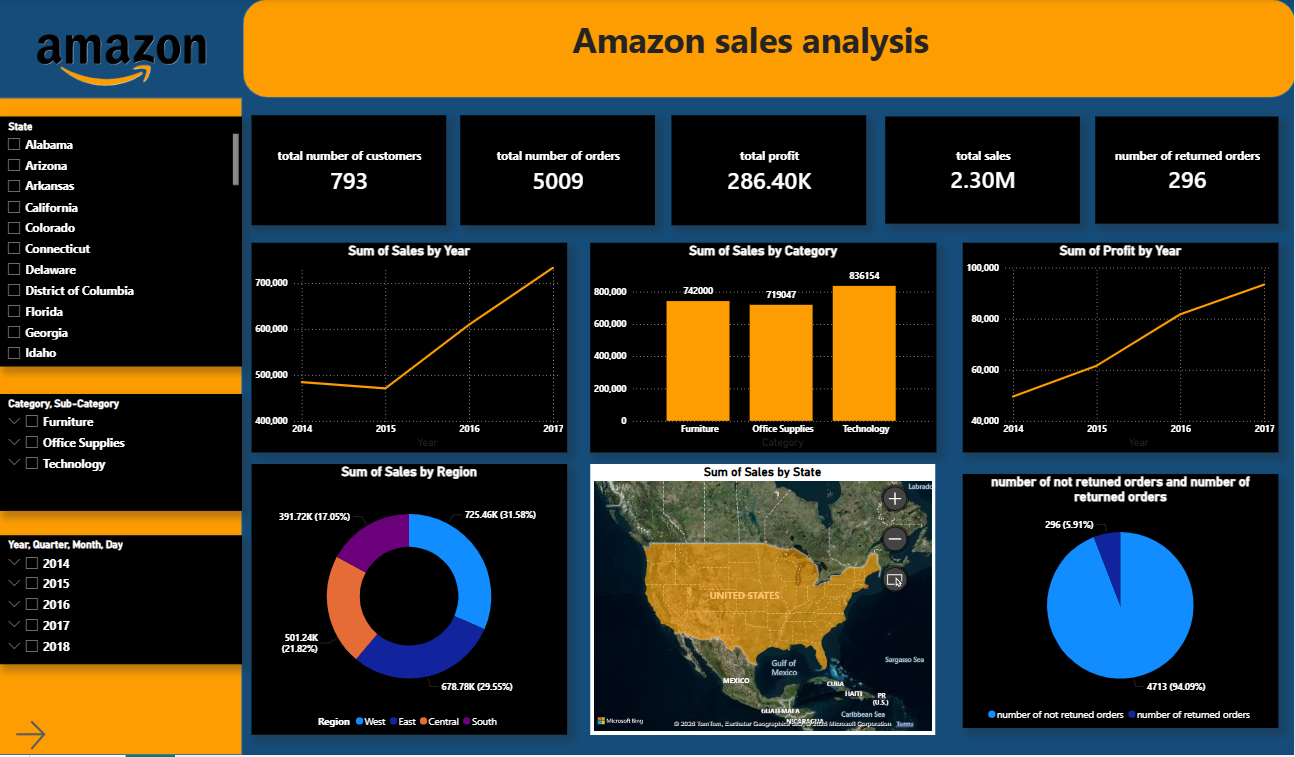

This screenshot's page, from the dashboard's own definition file:
{"tool":"powerbi","page":{"name":"Page 1","canvas":[1800,1050],"ordinal":0},"visuals":[{"type":"image","box":[17.4,15.4,304.9,146.7],"z":0},{"type":"shape","box":[0,137,337.7,912.7],"z":1000},{"type":"shape","box":[337.7,0,1462.7,137],"z":2000},{"type":"textbox","box":[640.7,0,806.6,119.6],"z":3000},{"type":"cardVisual","fields":{"Data":["Orders.total number of customers"]},"box":[351.2,162.1,270.2,152.4],"z":4000},{"type":"cardVisual","fields":{"Data":["Orders.total number of orders"]},"box":[640.7,162.1,270.2,152.4],"z":5000},{"type":"cardVisual","fields":{"Data":["Orders.total profit"]},"box":[934,162.1,270.2,152.4],"z":6000},{"type":"cardVisual","fields":{"Data":["Orders.total sales"]},"box":[1231.1,164,270.2,148.6],"z":7000},{"type":"cardVisual","fields":{"Data":["Orders.number of returned orders"]},"box":[1522.5,164,254.7,148.6],"z":8000},{"type":"lineChart","fields":{"Category":["Orders.Order Date.Variation.Date Hierarchy.Year","Orders.Order Date.Variation.Date Hierarchy.Quarter","Orders.Order Date.Variation.Date Hierarchy.Month","Orders.Order Date.Variation.Date Hierarchy.Day"],"Y":["Sum(Orders.Sales)"]},"box":[351.2,337.7,438,291.4],"z":9000},{"type":"lineChart","fields":{"Category":["Orders.Order Date.Variation.Date Hierarchy.Year","Orders.Order Date.Variation.Date Hierarchy.Quarter","Orders.Order Date.Variation.Date Hierarchy.Month","Orders.Order Date.Variation.Date Hierarchy.Day"],"Y":["Sum(Orders.Profit)"]},"box":[1339.2,337.7,438,291.4],"z":10000},{"type":"clusteredColumnChart","fields":{"Category":["Orders.Category Hierarchy.Category","Orders.Category Hierarchy.Sub-Category"],"Y":["Sum(Orders.Sales)"]},"box":[822,337.7,480.5,291.4],"z":11000},{"type":"donutChart","fields":{"Category":["Orders.Region"],"Y":["Sum(Orders.Sales)"]},"box":[351.2,646.4,438,376.3],"z":12000},{"type":"filledMap","fields":{"Category":["Orders.State"]},"box":[822,646.4,478.6,376.3],"z":13000},{"type":"actionButton","box":[17.4,995.7,77.2,52.1],"z":13002},{"type":"pieChart","fields":{"Y":["Orders.number of not retuned orders","Orders.number of returned orders"]},"box":[1339.2,660,438,353.1],"z":13005},{"type":"slicer","fields":{"Values":["Orders.State"]},"box":[0,164,337.7,347.3],"z":13006},{"type":"slicer","fields":{"Values":["Orders.Category Hierarchy.Category","Orders.Category Hierarchy.Sub-Category"]},"box":[0,548,337.7,162.1],"z":13007},{"type":"slicer","fields":{"Values":["Orders.Ship Date.Variation.Date Hierarchy.Year","Orders.Ship Date.Variation.Date Hierarchy.Quarter","Orders.Ship Date.Variation.Date Hierarchy.Month","Orders.Ship Date.Variation.Date Hierarchy.Day"]},"box":[0,744.9,337.7,179.5],"z":13008}]}

Visuals, with their boxes in screenshot pixels (x1, y1, x2, y2), scaled from the page's 1800x1050 canvas onto the 1295x757 screenshot:
image: left=13, top=11, right=232, bottom=117
shape: left=0, top=99, right=243, bottom=756
shape: left=243, top=0, right=1294, bottom=99
textbox: left=461, top=0, right=1041, bottom=86
cardVisual - Orders.total number of customers: left=253, top=117, right=447, bottom=227
cardVisual - Orders.total number of orders: left=461, top=117, right=655, bottom=227
cardVisual - Orders.total profit: left=672, top=117, right=866, bottom=227
cardVisual - Orders.total sales: left=886, top=118, right=1080, bottom=225
cardVisual - Orders.number of returned orders: left=1095, top=118, right=1279, bottom=225
lineChart - Orders.Order Date.Variation.Date Hierarchy.Year x Orders.Order Date.Variation.Date Hierarchy.Quarter: left=253, top=243, right=568, bottom=454
lineChart - Orders.Order Date.Variation.Date Hierarchy.Year x Orders.Order Date.Variation.Date Hierarchy.Quarter: left=963, top=243, right=1279, bottom=454
clusteredColumnChart - Orders.Category Hierarchy.Category x Orders.Category Hierarchy.Sub-Category: left=591, top=243, right=937, bottom=454
donutChart - Orders.Region x Sum(Orders.Sales): left=253, top=466, right=568, bottom=737
filledMap - Orders.State: left=591, top=466, right=936, bottom=737
actionButton: left=13, top=718, right=68, bottom=755
pieChart - Orders.number of not retuned orders x Orders.number of returned orders: left=963, top=476, right=1279, bottom=730
slicer - Orders.State: left=0, top=118, right=243, bottom=369
slicer - Orders.Category Hierarchy.Category x Orders.Category Hierarchy.Sub-Category: left=0, top=395, right=243, bottom=512
slicer - Orders.Ship Date.Variation.Date Hierarchy.Year x Orders.Ship Date.Variation.Date Hierarchy.Quarter: left=0, top=537, right=243, bottom=666
